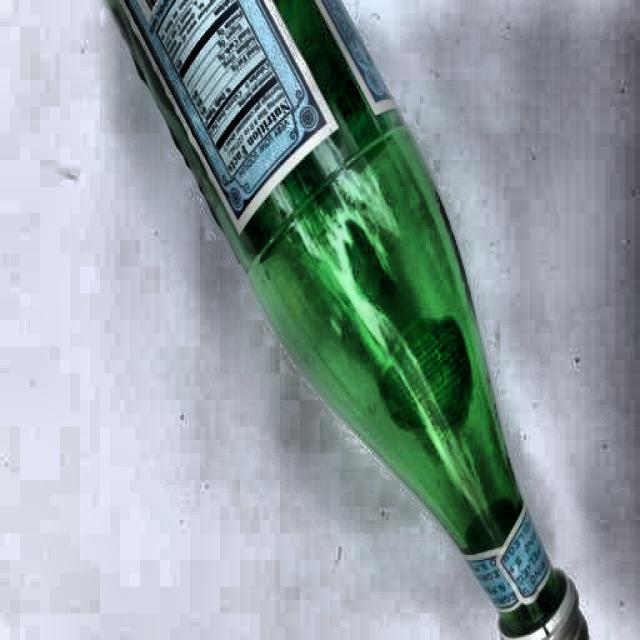glass: (97, 0, 586, 640)
